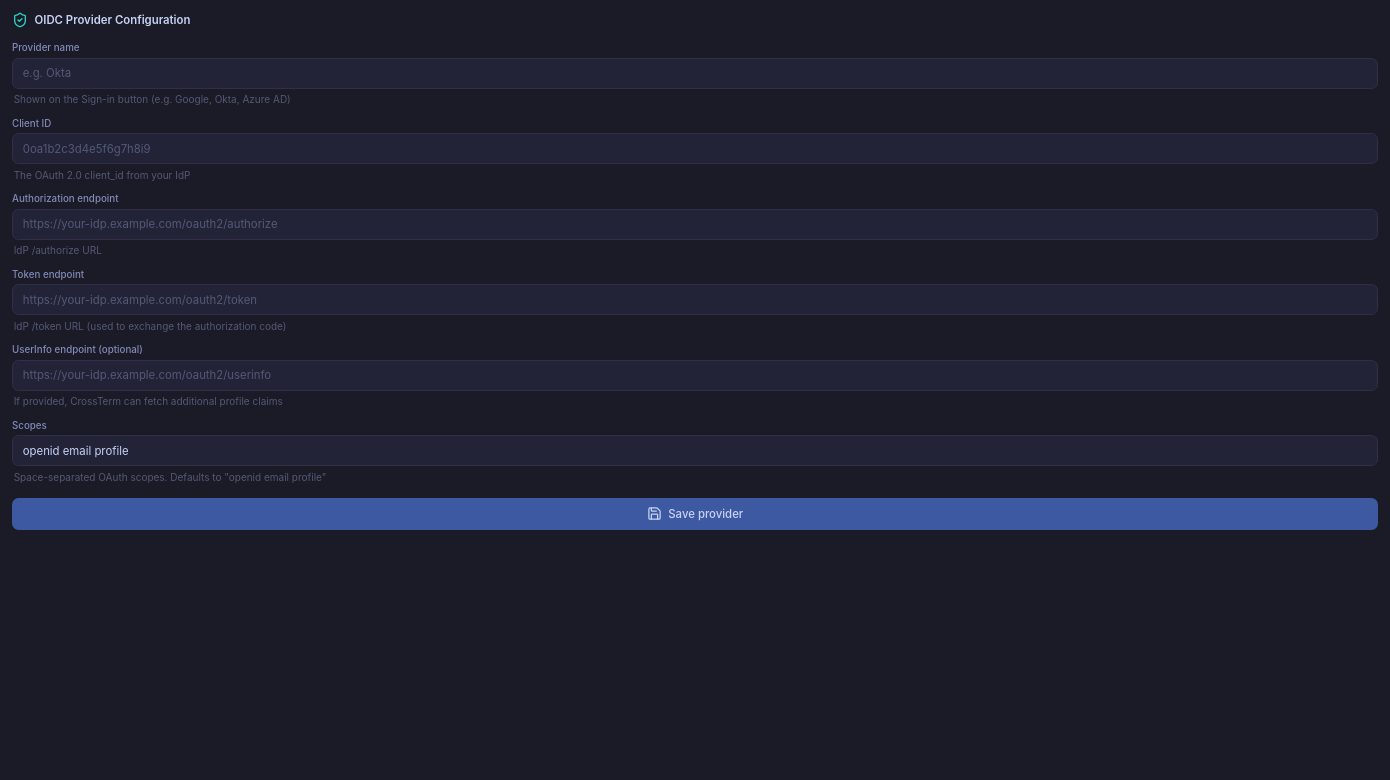
SsoConfigForm › shows an error message when saving fails
Type "Okta" into the field with placeholder "e.g. Okta" at (695, 73), box 12,58 -> 1378,89
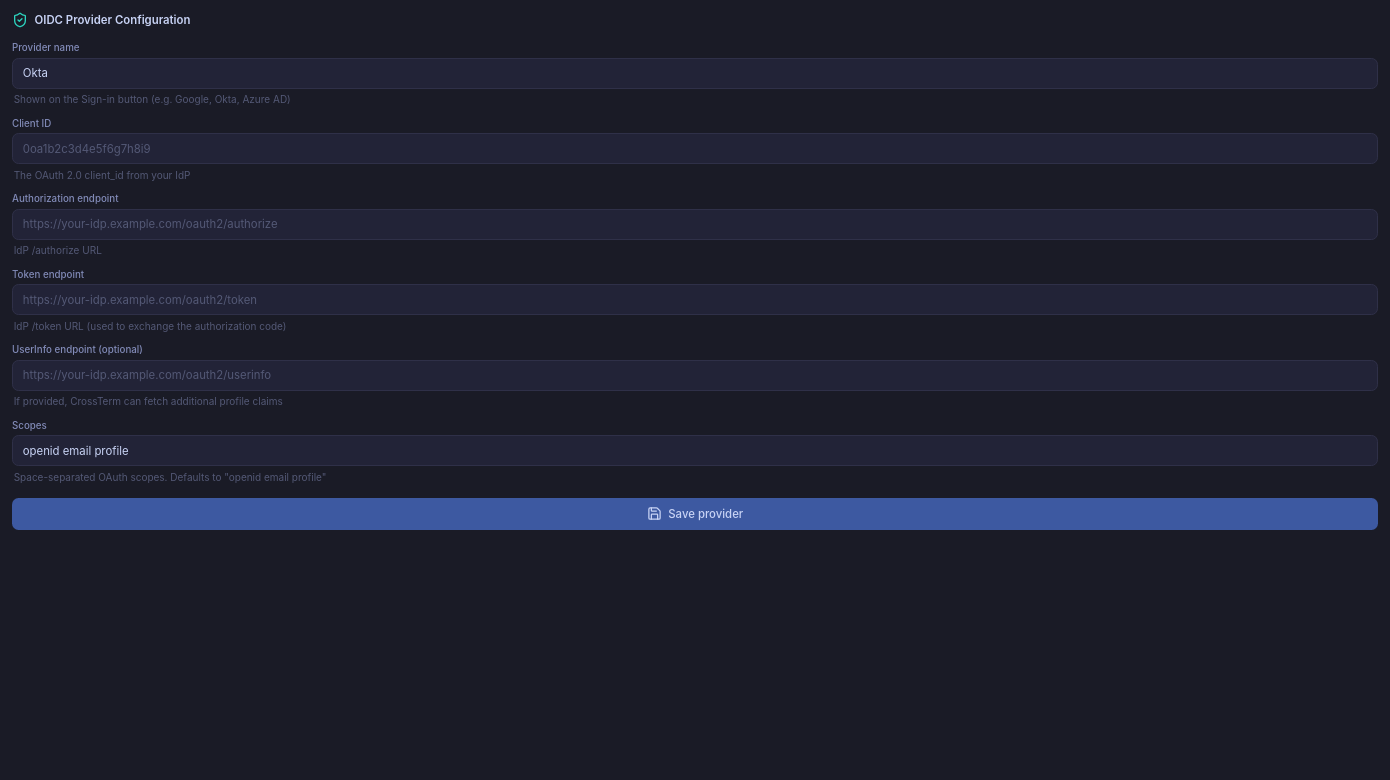
Type "client-1" into the field with placeholder "0oa1b2c3d4e5f6g7h8i9" at (695, 149), box 12,133 -> 1378,164
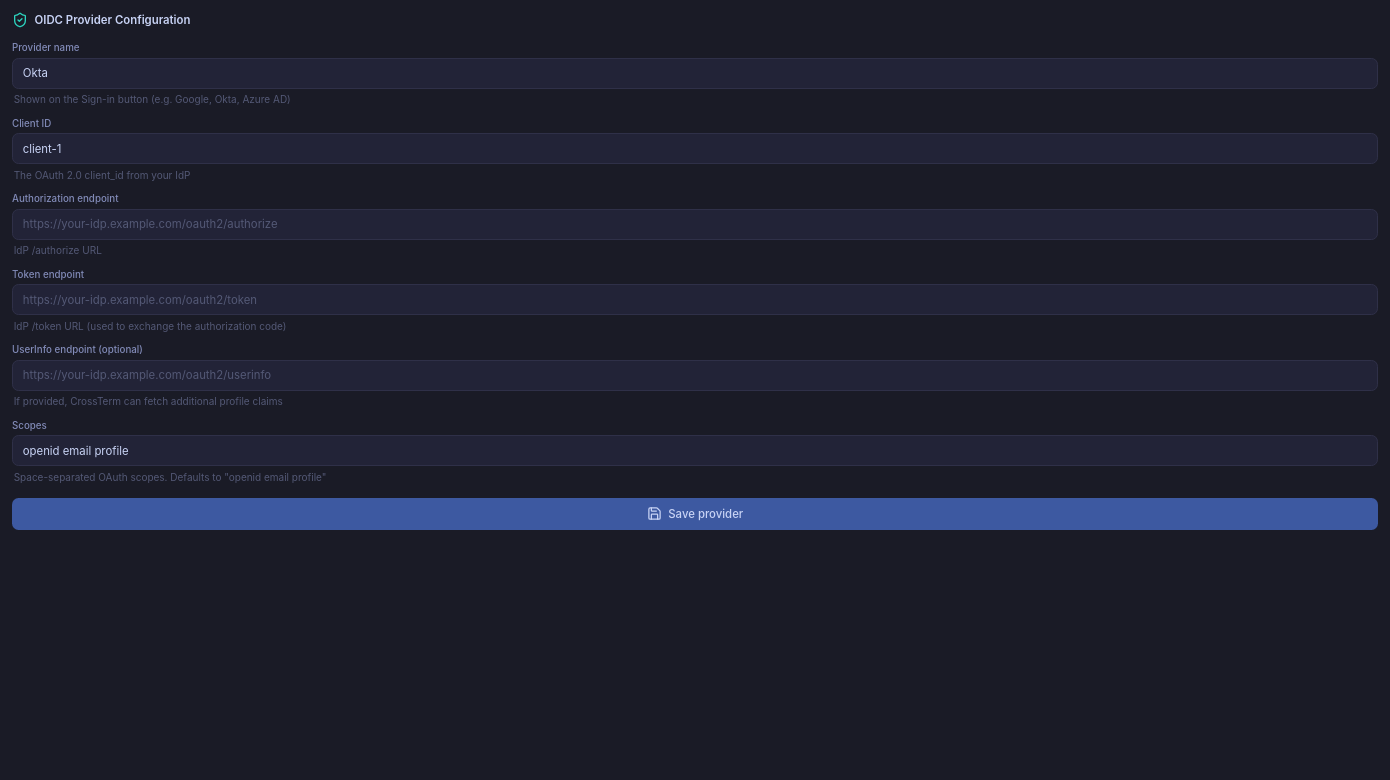
Type "https://idp.example.com/authorize" into the field with placeholder "https://your-idp.example.com/oauth2/authorize" at (695, 224), box 12,208 -> 1378,240
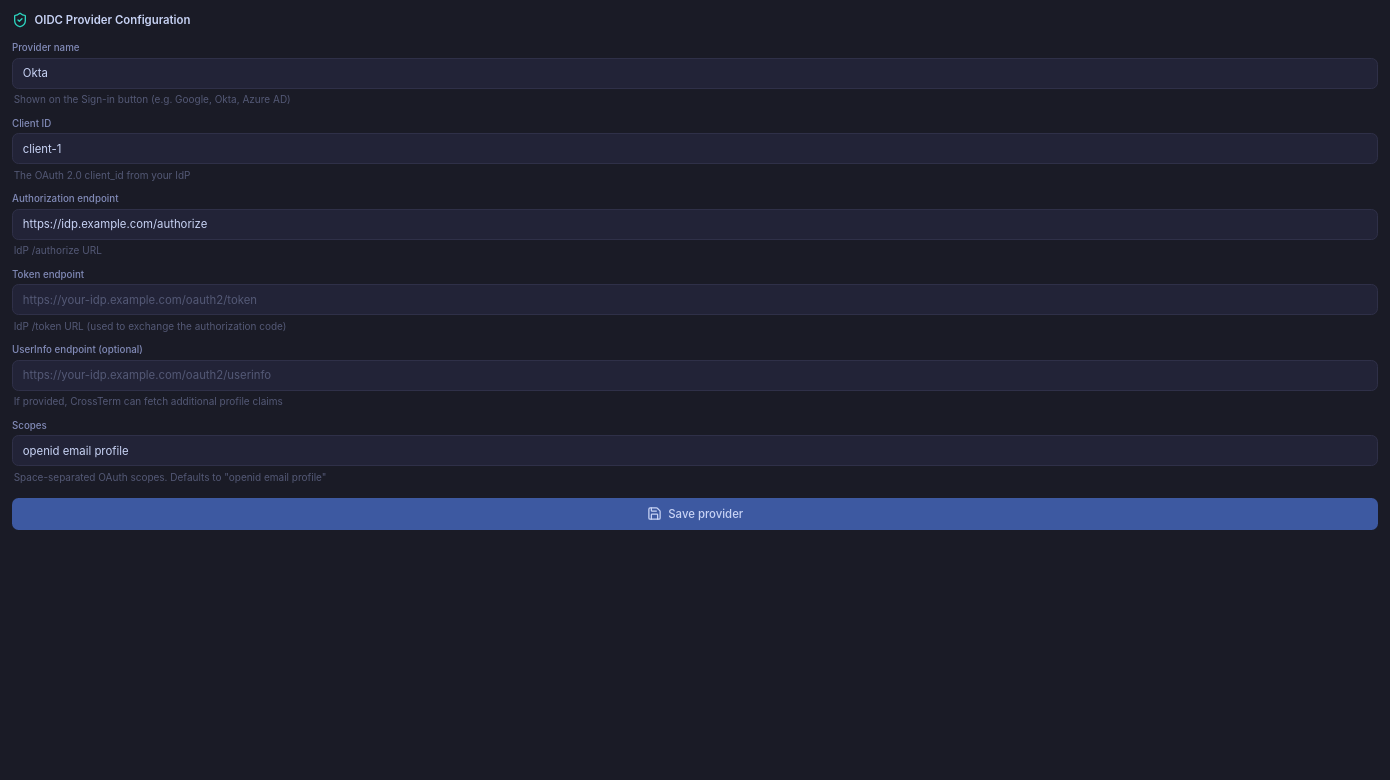
Type "https://idp.example.com/token" into the field with placeholder "https://your-idp.example.com/oauth2/token" at (695, 300), box 12,284 -> 1378,315
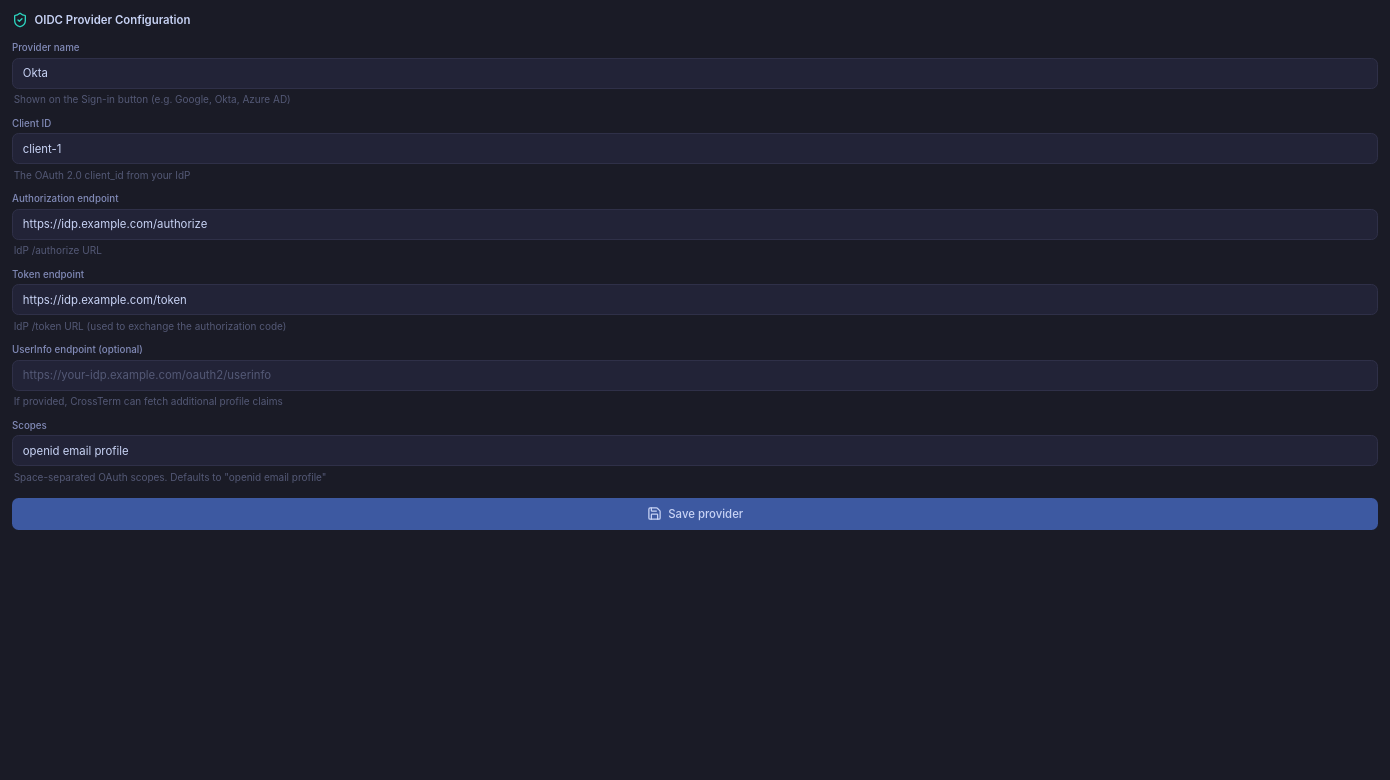
Click the button "Save provider" at (695, 514), box 12,498 -> 1378,530
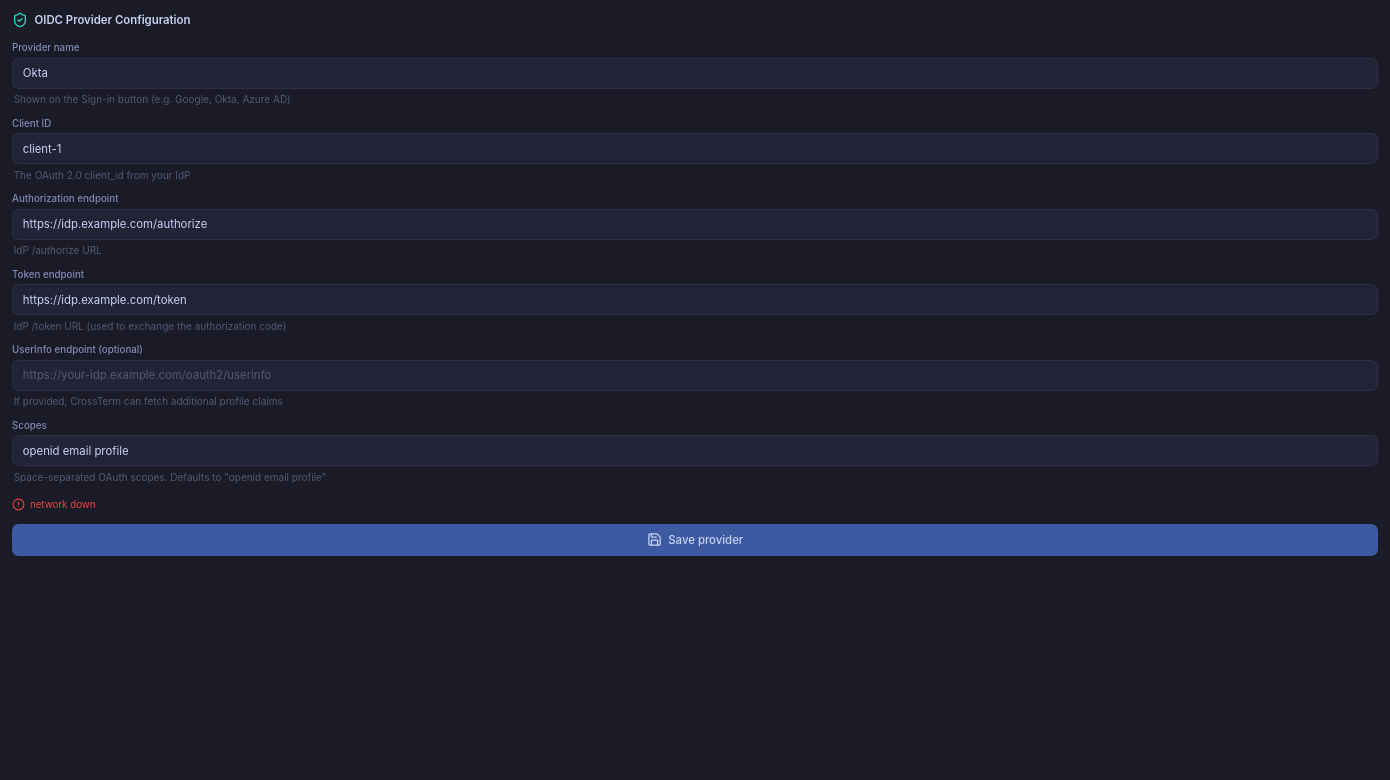
Expected: the text "network down" is shown, 12,498 -> 96,510
